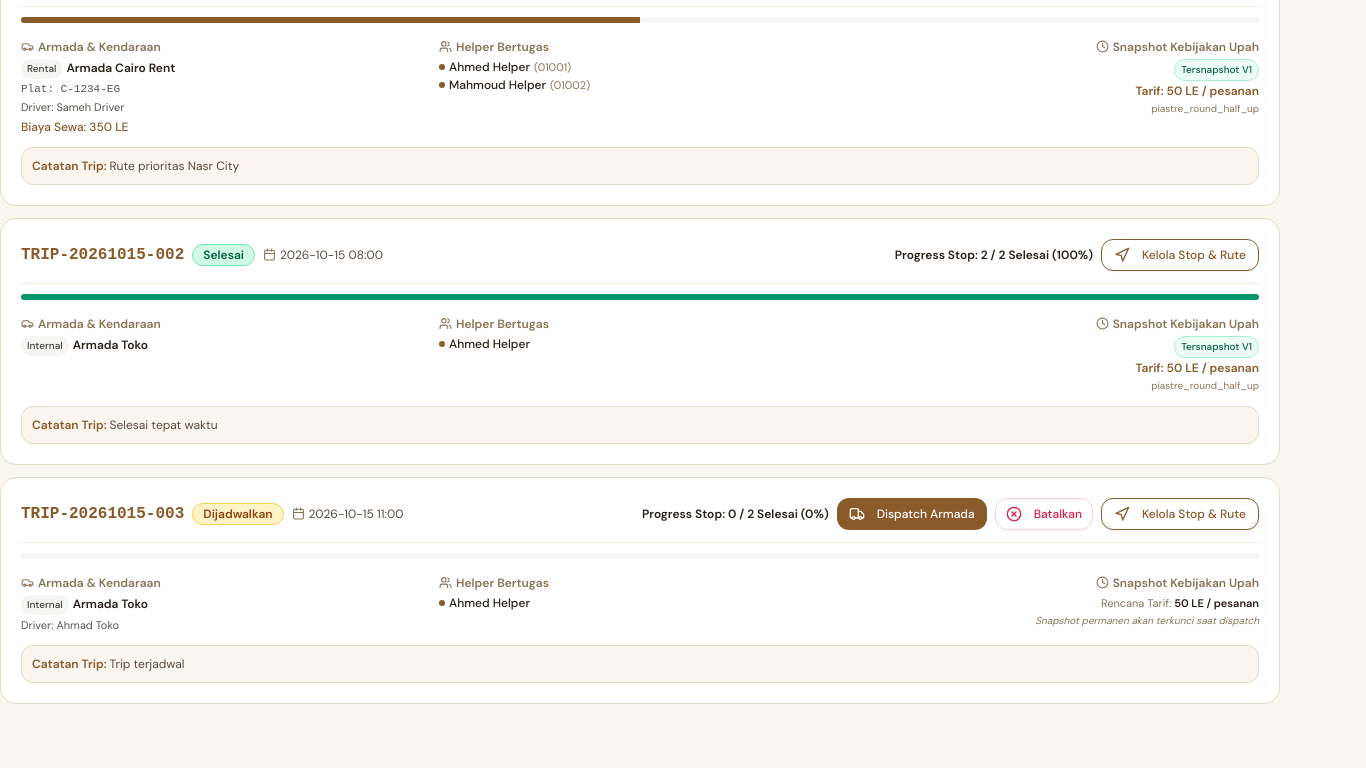
Scenario: AdminLogistics - Phase 3.F.4.2B Package 2 Suite › 18. Manage Stops modal displays stops and Google Maps multi-stop route link
(page scrolled)
What coordinates should you click on to do the following:
click the button with test id "btn-manage-stops-TRIP-20261015-003"
I would click on:
 (1180, 514)
Its box is [1101,498,1259,530].
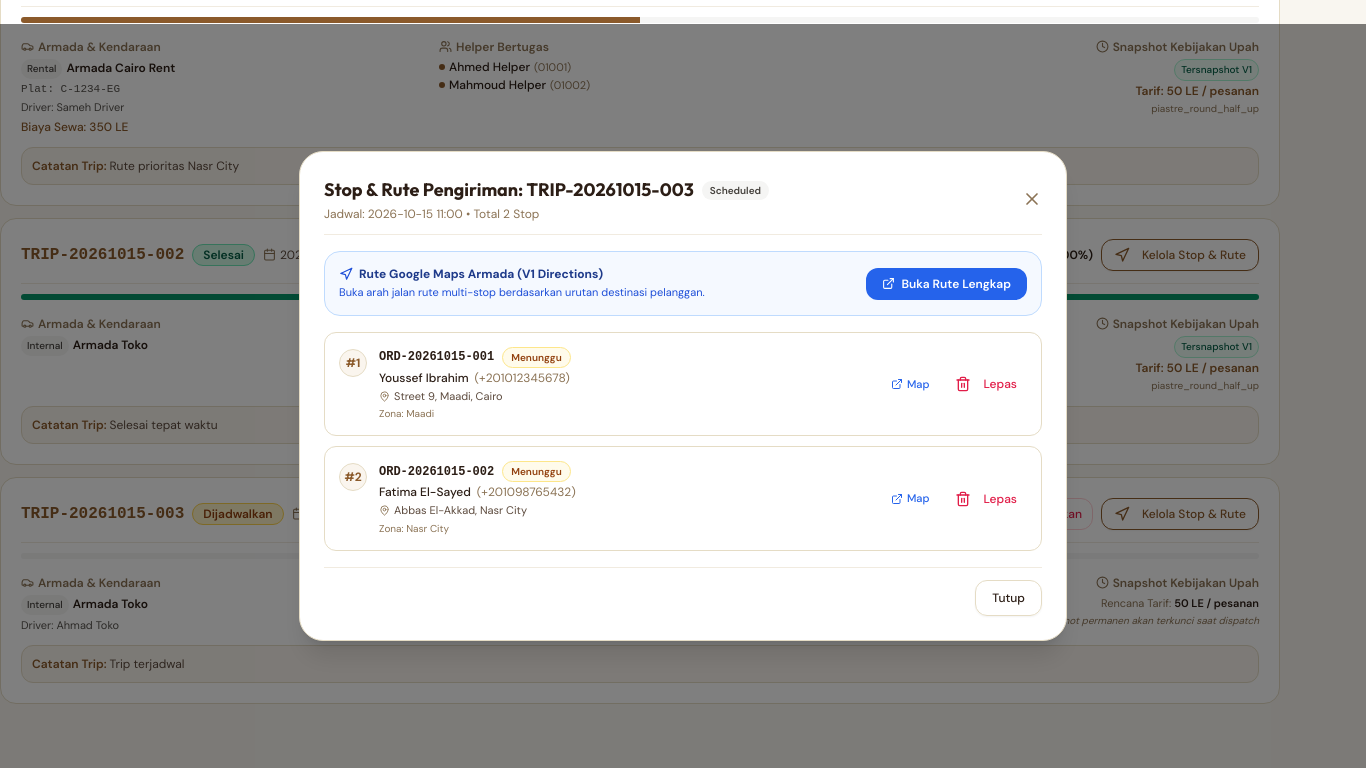
Now the element with test id "modal-manage-stops" is shown
Now the element with test id "modal-manage-stops" shows "Stop & Rute Pengiriman: TRIP-20261015-003"
Now the link with test id "btn-open-multi-stop-maps" is shown, box [866,268,1027,300]
